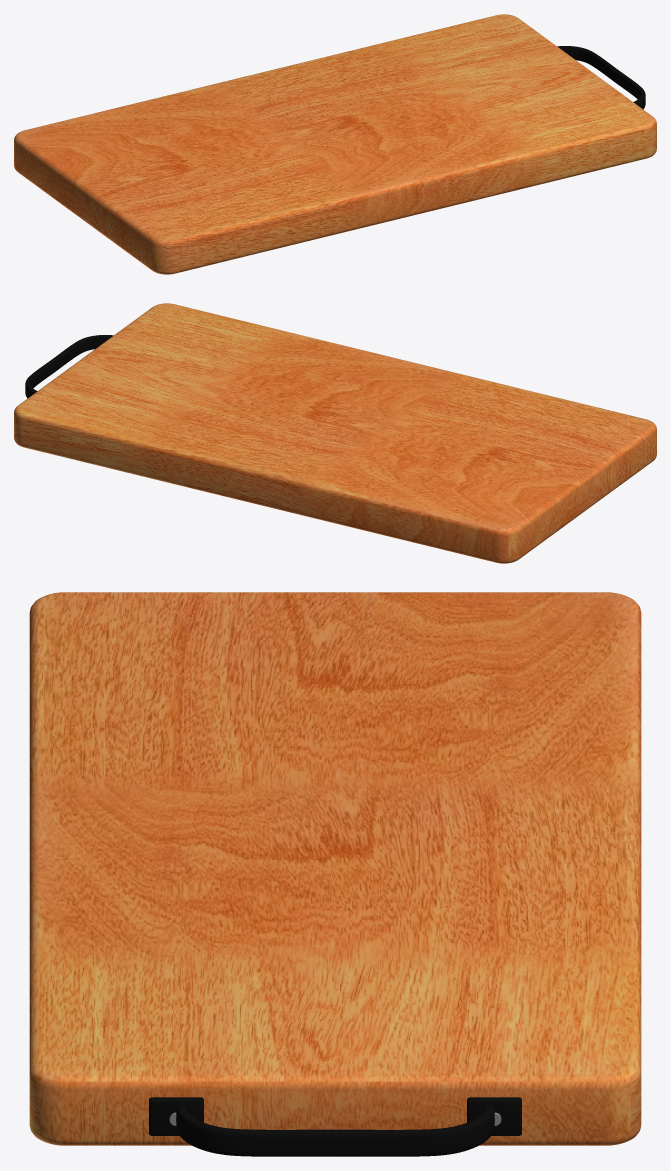
Rendered from chopping_board.glb.
3 renders of one model, top to bottom at view 1: azimuth 30°, elevation 25°; view 2: azimuth 150°, elevation 25°; view 3: azimuth 270°, elevation 25°, orthographic. The views are drawn at different scales.
Visible parts, largest first — view 1: Wood Chop Mango Wood Chopping Board; view 2: Wood Chop Mango Wood Chopping Board; view 3: Wood Chop Mango Wood Chopping Board.
Boxes of the visible parts, x1,y1,x2,y2 form: Wood Chop Mango Wood Chopping Board: (14,14,656,274); Wood Chop Mango Wood Chopping Board: (14,303,656,563); Wood Chop Mango Wood Chopping Board: (29,592,641,1156).
Size of the model in its own units: 0.4039 by 0.025 by 0.2.
3 materials, 1 textured.
